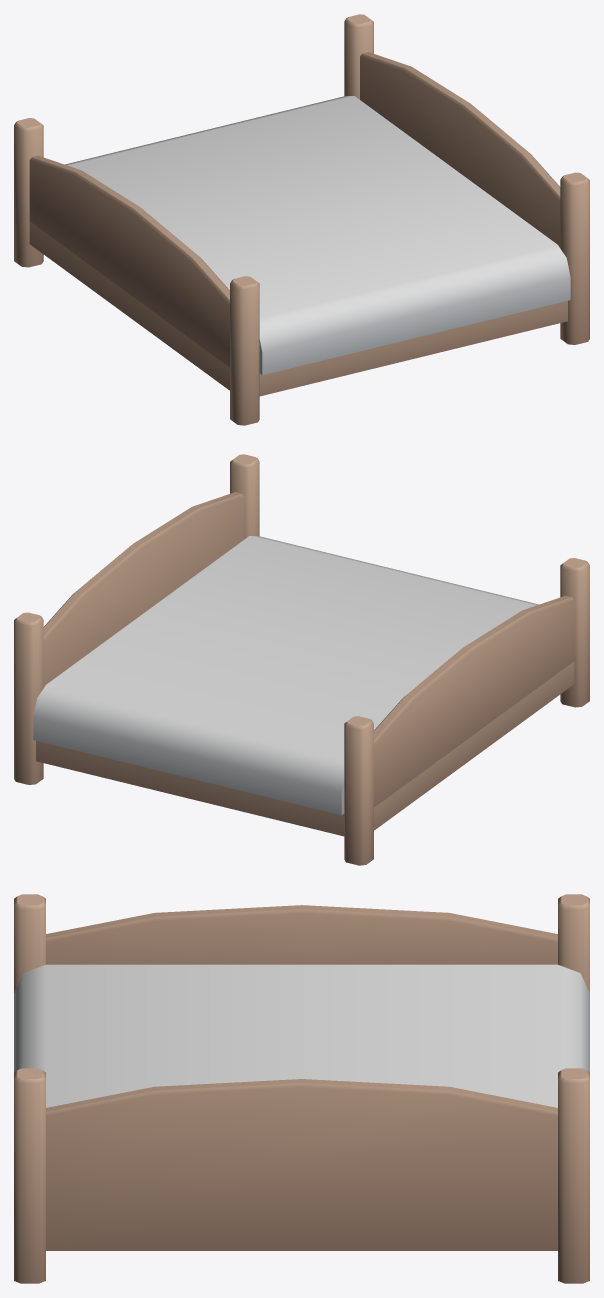
The model's file is bed-detail-rounded-double.glb.
3 views of the same model, one above another, from view 1: azimuth 30°, elevation 25°; view 2: azimuth 150°, elevation 25°; view 3: azimuth 270°, elevation 25° (orthographic). The views are drawn at different scales.
Visible parts, largest first — view 1: bed-detail-rounded-double; view 2: bed-detail-rounded-double; view 3: bed-detail-rounded-double.
Part boxes in pixels (x1,y1,x2,y2): bed-detail-rounded-double: (14, 14, 589, 425); bed-detail-rounded-double: (14, 454, 589, 865); bed-detail-rounded-double: (14, 894, 589, 1283).
Size of the model in its own units: 1.6 by 0.7 by 1.8.
